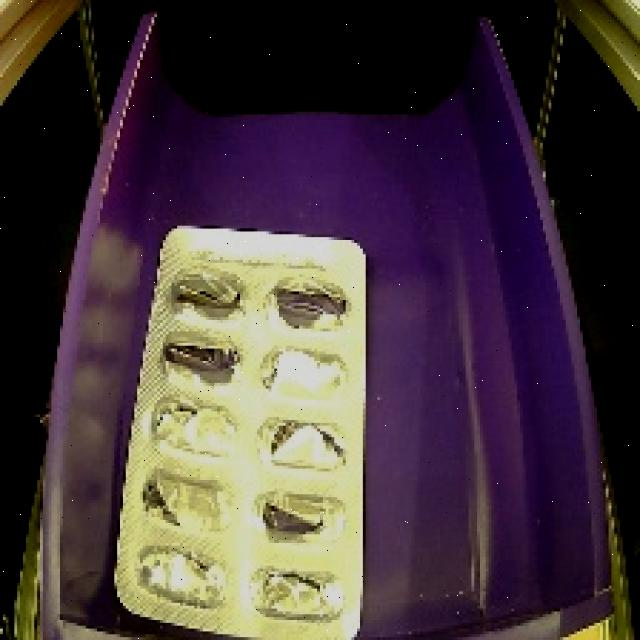med_plate: (110, 218, 386, 640)
